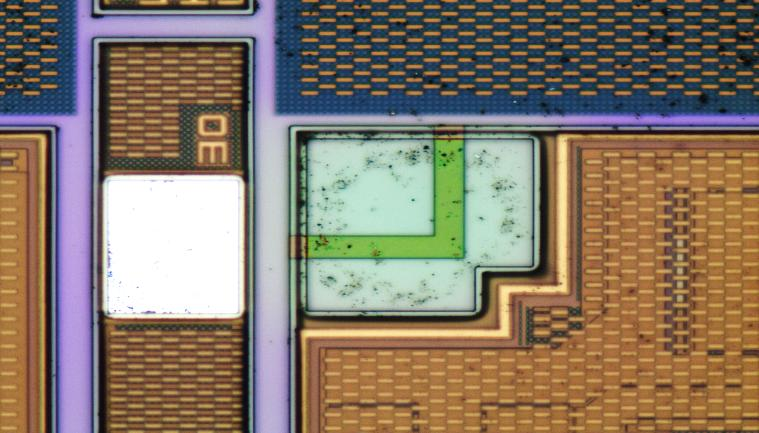PO CONTAMINATION: (1, 1, 759, 331)
